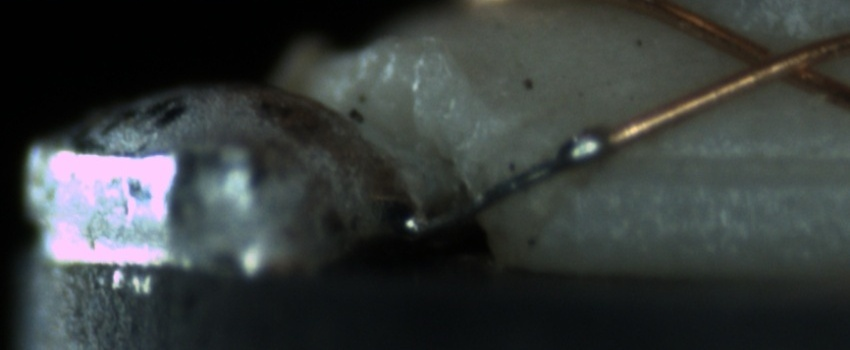CL: (714, 30, 843, 93)
DL: (604, 129, 846, 201)
TB: (552, 125, 612, 174)
TS: (400, 136, 605, 242)
TTCW: (403, 93, 652, 241)
